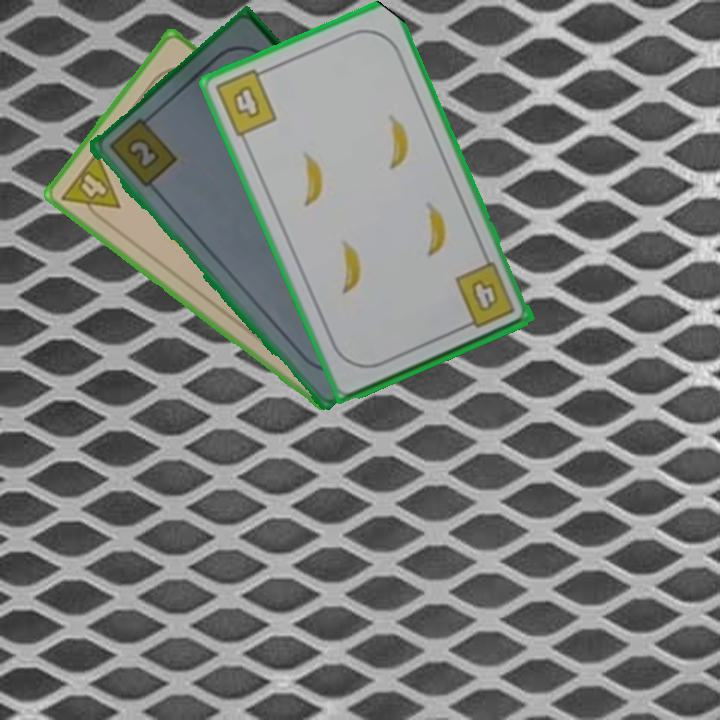2b: (104, 112, 180, 190)
4b: (211, 64, 280, 140), (451, 259, 518, 332)
4p: (57, 147, 124, 228)
